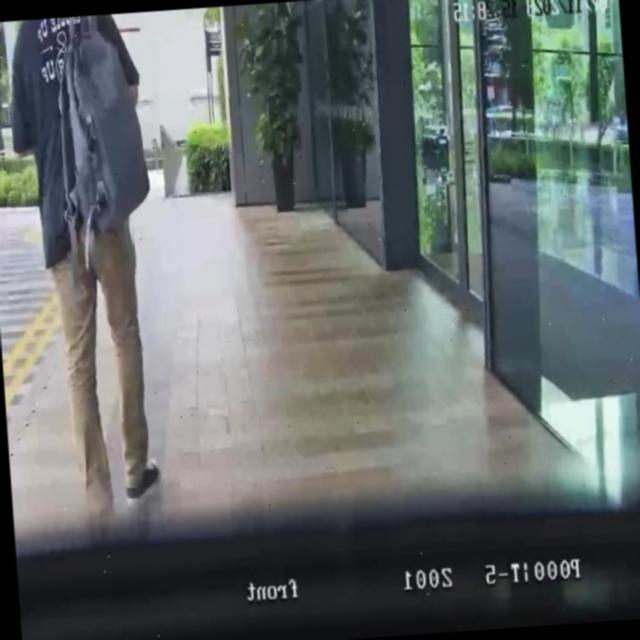person: (2, 12, 171, 512)
